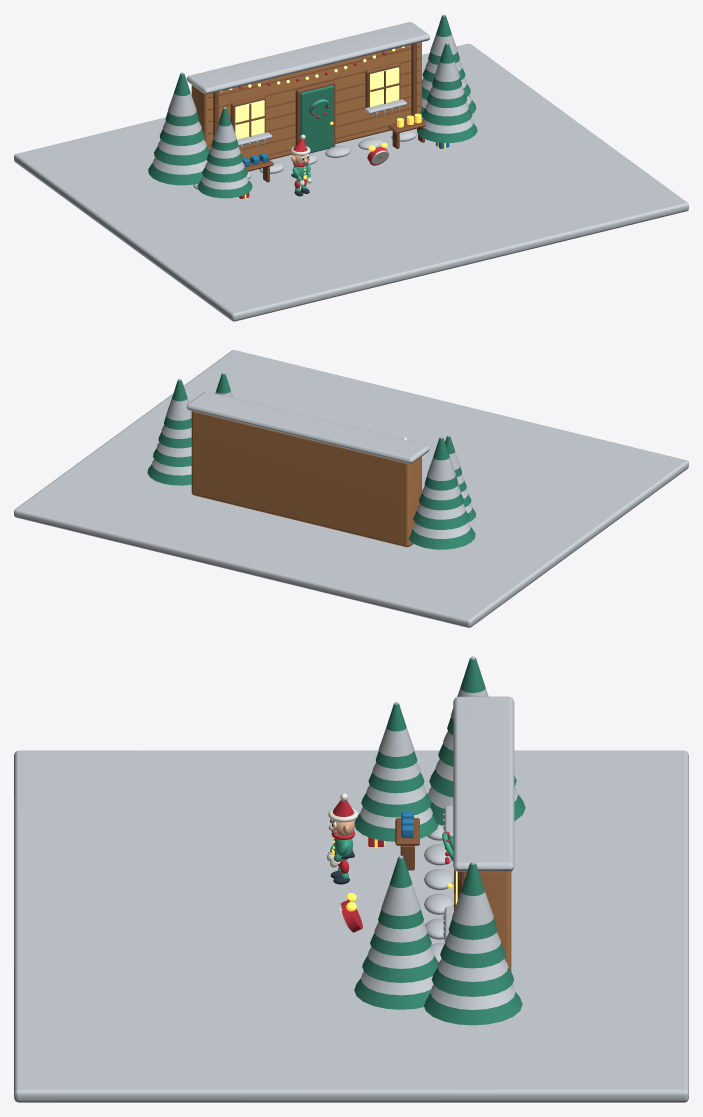
File: chapter-09.glb
3 renders of one model, top to bottom at view 1: azimuth 30°, elevation 25°; view 2: azimuth 150°, elevation 25°; view 3: azimuth 270°, elevation 25°, orthographic. The views are drawn at different scales.
Parts seen in each view (by area): view 1: Schneeboden, Werkstatt, Schneegesims, Wichteltür, Warmes Fenster, Warmes Fenster.001, Tannenzweig.008, Tannenzweig.009, Türrahmen, Tannenzweig.004, Tannenzweig.011, Schnee.011 (+6 smaller); view 2: Schneeboden, Werkstatt, Schneegesims, Tannenzweig.008, Tannenzweig.009, Tannenzweig.011, Schnee.008, Schnee.011, Tannenzweig.015, Tannenzweig.012, Tannenzweig.010, Schnee.009 (+1 smaller); view 3: Schneeboden, Schneegesims, Werkstatt, Tannenzweig.012, Tannenzweig.013, Tannenzweig.015, Schnee.012, Tannenzweig.005, Tannenzweig.004, Schnee.015, Tannenzweig.007, Schnee.013 (+14 smaller).
Boxes of the visible parts, <box> form: Schneeboden: <box>14,43,688,321</box>; Werkstatt: <box>191,42,421,160</box>; Schneegesims: <box>186,22,429,94</box>; Wichteltür: <box>300,85,333,153</box>; Warmes Fenster: <box>235,100,264,139</box>; Warmes Fenster.001: <box>370,67,399,106</box>; Tannenzweig.008: <box>148,163,202,185</box>; Tannenzweig.009: <box>154,146,209,165</box>; Türrahmen: <box>295,81,335,146</box>; Tannenzweig.004: <box>417,122,477,142</box>; Tannenzweig.011: <box>165,73,198,126</box>; Schnee.011: <box>168,72,196,116</box>; Schneeboden: <box>14,350,688,627</box>; Werkstatt: <box>191,411,421,547</box>; Schneegesims: <box>186,391,429,463</box>; Tannenzweig.008: <box>408,527,475,549</box>; Tannenzweig.009: <box>413,510,469,529</box>; Tannenzweig.011: <box>424,437,458,490</box>; Schnee.008: <box>412,522,470,538</box>; Schnee.011: <box>427,436,455,480</box>; Tannenzweig.015: <box>164,380,191,429</box>; Tannenzweig.012: <box>147,464,191,485</box>; Tannenzweig.010: <box>419,493,463,510</box>; Schnee.009: <box>417,504,465,519</box>; Schneeboden: <box>14,750,688,1102</box>; Schneegesims: <box>453,696,514,871</box>; Werkstatt: <box>466,871,511,971</box>; Tannenzweig.012: <box>424,992,522,1025</box>; Tannenzweig.013: <box>431,968,514,996</box>; Tannenzweig.015: <box>448,863,497,939</box>; Schnee.012: <box>430,985,515,1009</box>; Tannenzweig.005: <box>362,955,438,982</box>; Tannenzweig.004: <box>354,978,430,1009</box>; Schnee.015: <box>452,861,493,925</box>; Tannenzweig.007: <box>378,857,423,929</box>; Schnee.013: <box>437,959,508,981</box>.
Size of the model in its own units: 18 by 4.39 by 15.
